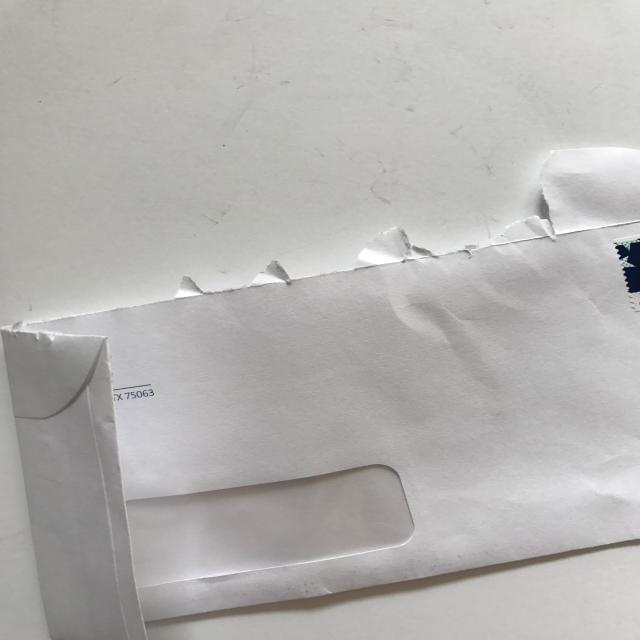paper: (1, 147, 640, 639)
